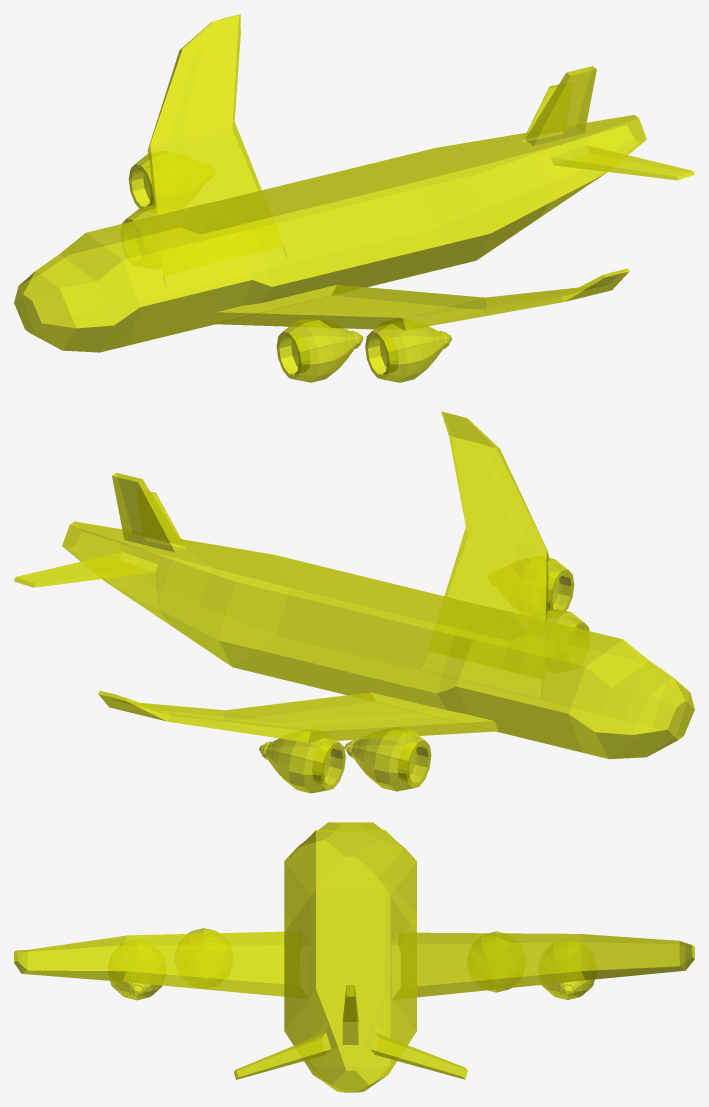
The model's file is air.glb.
3 views of the same model, one above another, from view 1: azimuth 30°, elevation 25°; view 2: azimuth 150°, elevation 25°; view 3: azimuth 270°, elevation 25° (orthographic). The views are drawn at different scales.
Visible parts, largest first — view 1: Cube; view 2: Cube; view 3: Cube.
Part boxes in pixels (bbox=[...]): Cube: bbox=[14, 14, 694, 382]; Cube: bbox=[14, 411, 694, 793]; Cube: bbox=[14, 822, 694, 1092].
Size of the model in its own units: 13.57 by 3.57 by 14.19.
